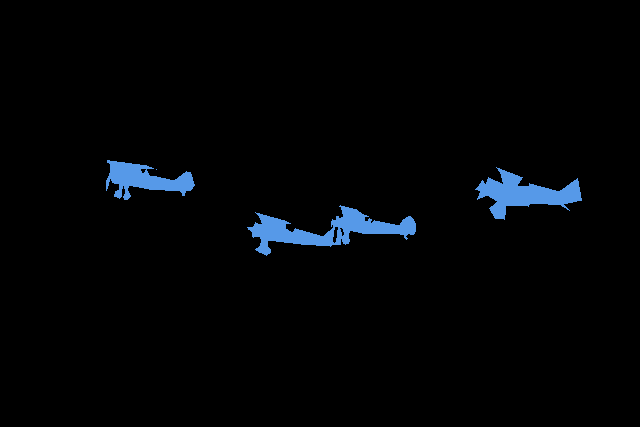Airplane: (475, 167, 582, 219), (247, 212, 341, 255), (106, 160, 194, 200), (331, 205, 416, 244)
